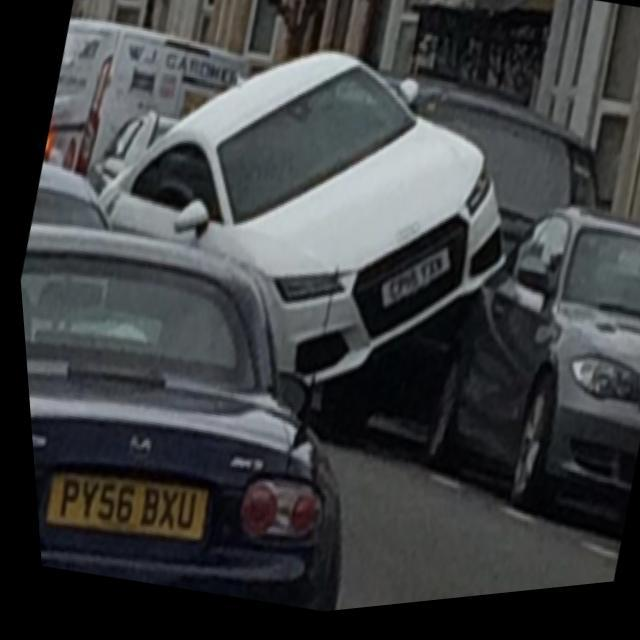license_plate: (27, 447, 212, 562)
